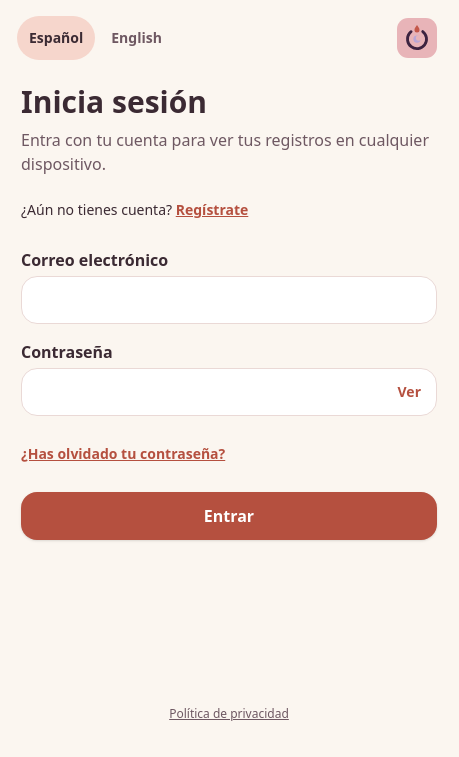
Test: Registro › la contraseña se puede mostrar y se indica su seguridad
Click the button "Regístrate".
click(212, 210)  # box [176,188,248,232]
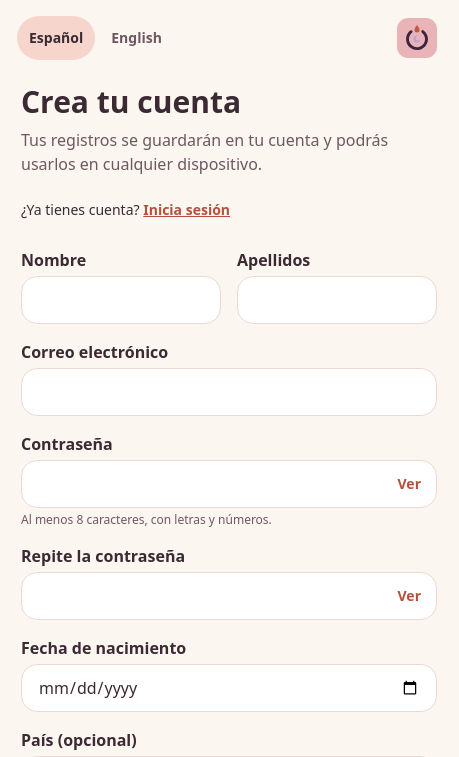
Type "Ciclo-2026-segura" into the password field labelled "Contraseña".
click(229, 484); type("Ciclo-2026-segura")  # box [21,460,437,508]
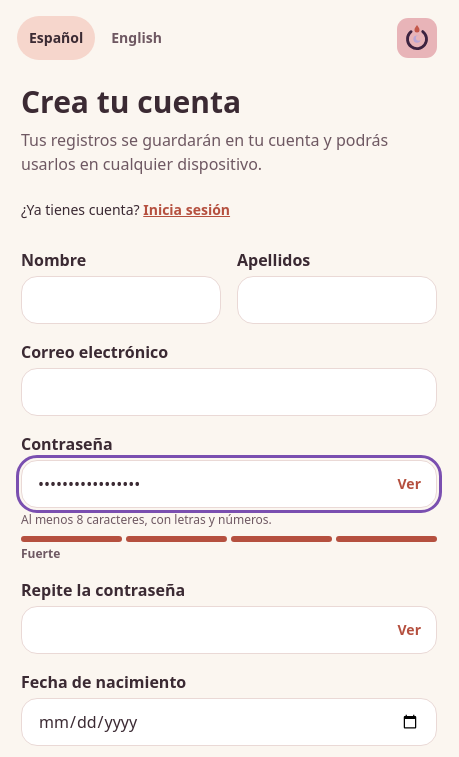
expect the picture named "Seguridad de la contraseña: Fuerte" is shown: met, box [21,536,437,562]
Click the button with aria-label "Mostrar contraseña".
click(409, 484)  # box [386,464,433,504]
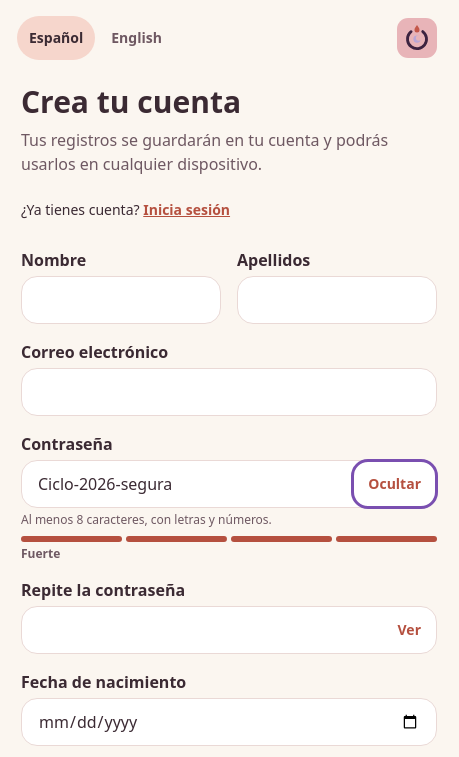
expect the field labelled "Contraseña" shows its text: met, box [21,460,437,508]
